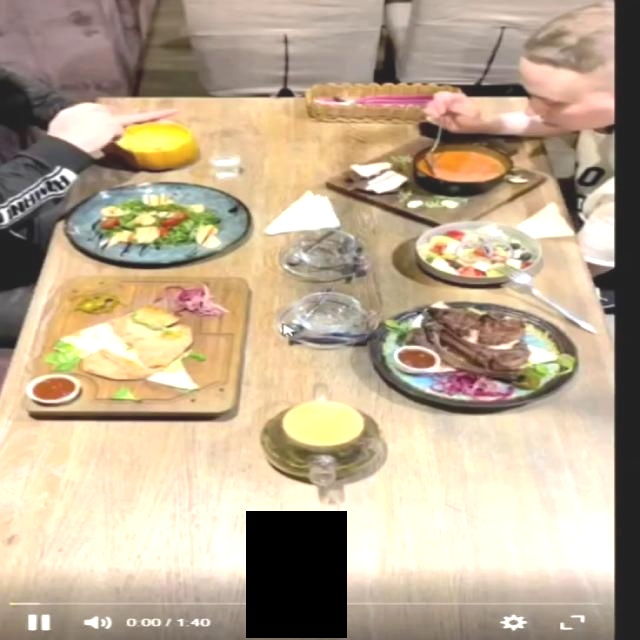meat: (24, 276, 253, 412), (366, 301, 579, 409)
salad: (61, 181, 251, 266), (412, 220, 543, 285)
soup: (326, 133, 552, 226), (113, 121, 199, 170)
tea: (252, 373, 397, 499)
